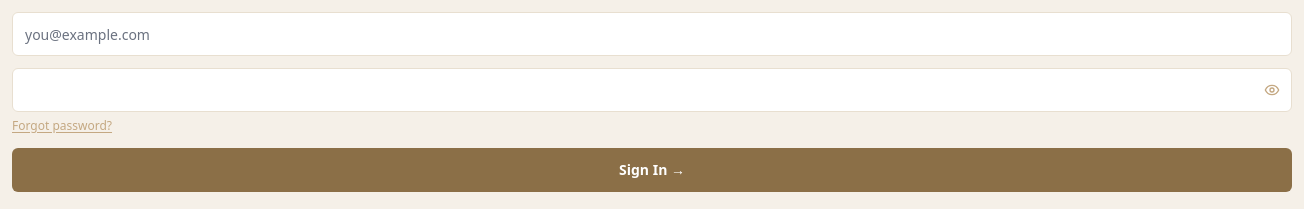
it: LoginForm › forgot password link shows reset form
The image size is (1304, 209).
Click the button "Forgot password?": (62, 126) top-left (12, 118), bottom-right (112, 134)
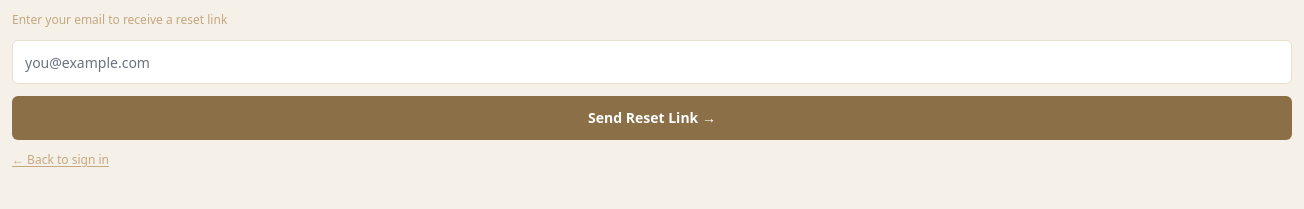
expect the text "Enter your email to receive a reset link" is shown: met, box top-left (12, 11), bottom-right (227, 28)
